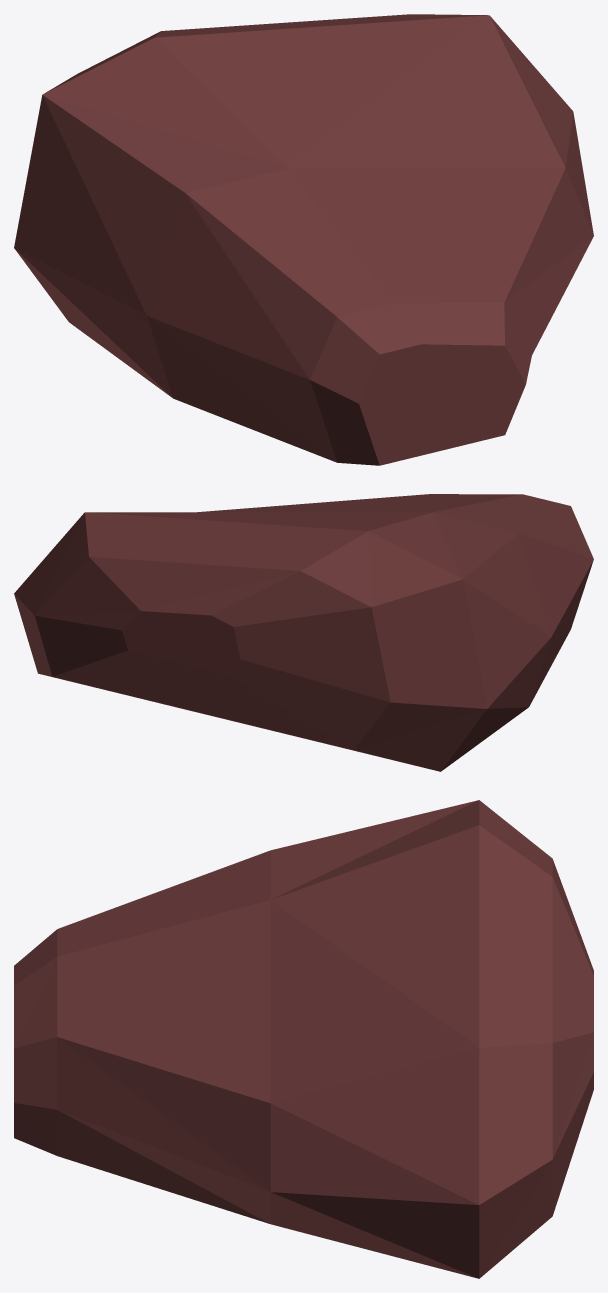
The model's file is LToe_mesh.dae.
The picture shows the model from 3 angles, top to bottom: view 1: azimuth 30°, elevation 25°; view 2: azimuth 150°, elevation 25°; view 3: azimuth 270°, elevation 25°; orthographic projection. The views are drawn at different scales.
Parts seen in each view (by area): view 1: LToe; view 2: LToe; view 3: LToe.
Part boxes in pixels (x1=…): LToe: x1=14, y1=14, x2=593, y2=465; LToe: x1=14, y1=494, x2=593, y2=771; LToe: x1=14, y1=800, x2=593, y2=1278.
Size of the model in its own units: 0.0968 by 0.0436 by 0.087.
